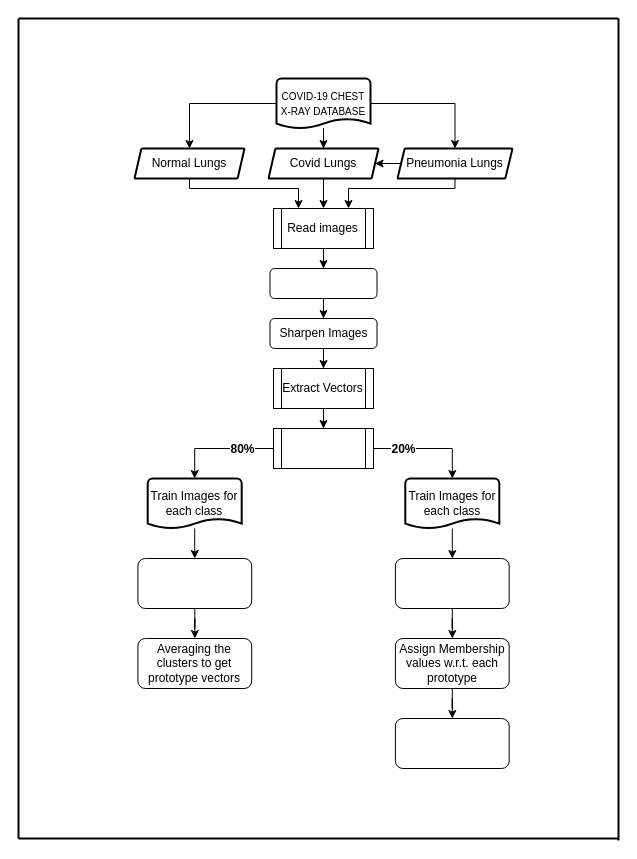
This 637x859 diagram has some shape labels left out. Each missing label, with the centre of its shape:
"Assign Class with highest membership value" goes at point (451, 743).
"Calculating the distances w.r.t each prototype" goes at point (451, 583).
"Clustering the vectors with threshold (r)" goes at point (194, 583).
"Grayscale Images" goes at point (323, 283).
"Normalize Vectors" goes at point (323, 448).
